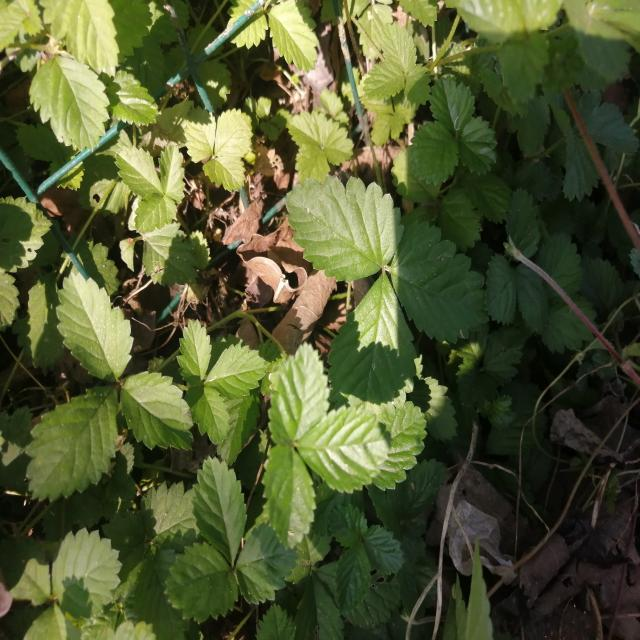Mock_strawberry: (44, 274, 264, 484), (286, 168, 477, 379), (249, 327, 384, 529)
